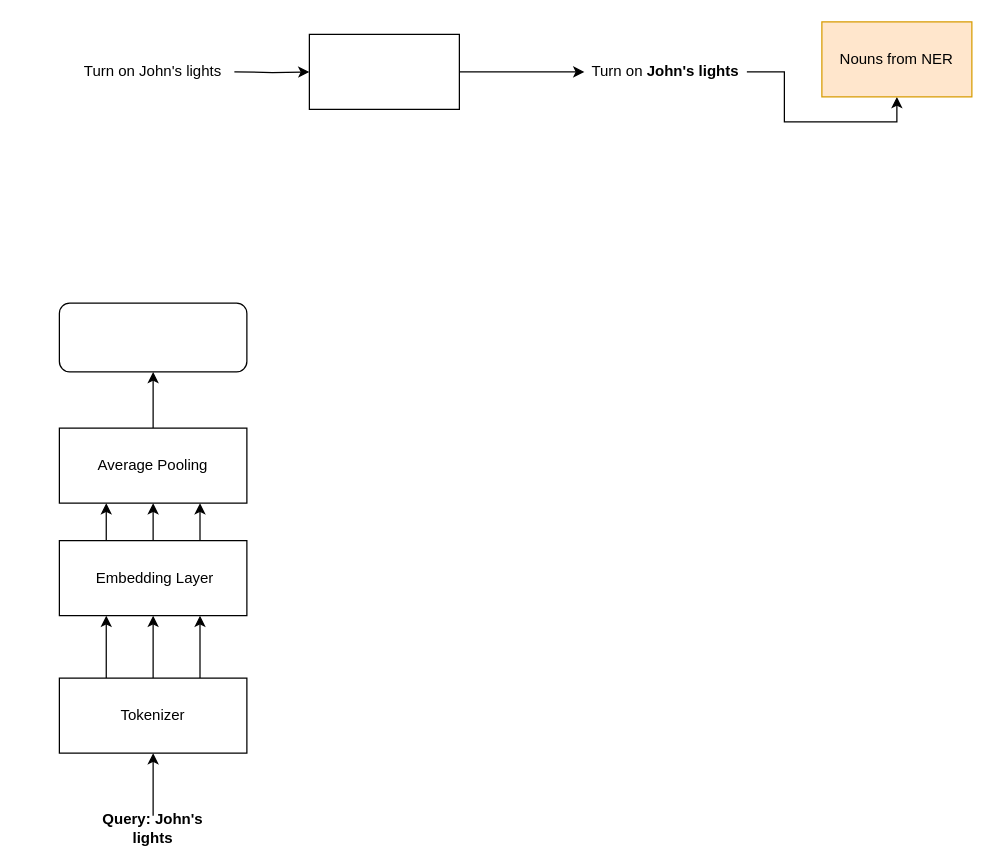
Image size: 994x868. Some labels were removed from this diagram. The centre of each missing label's shape, as x and y in pixels:
"Final Embedding for Entity" belongs at (152,337).
"NER" belongs at (383,71).
